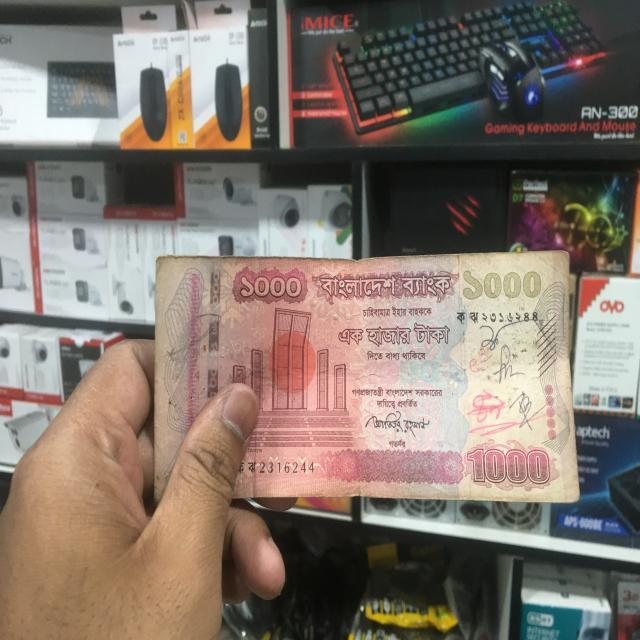Taka: (153, 244, 576, 507)
